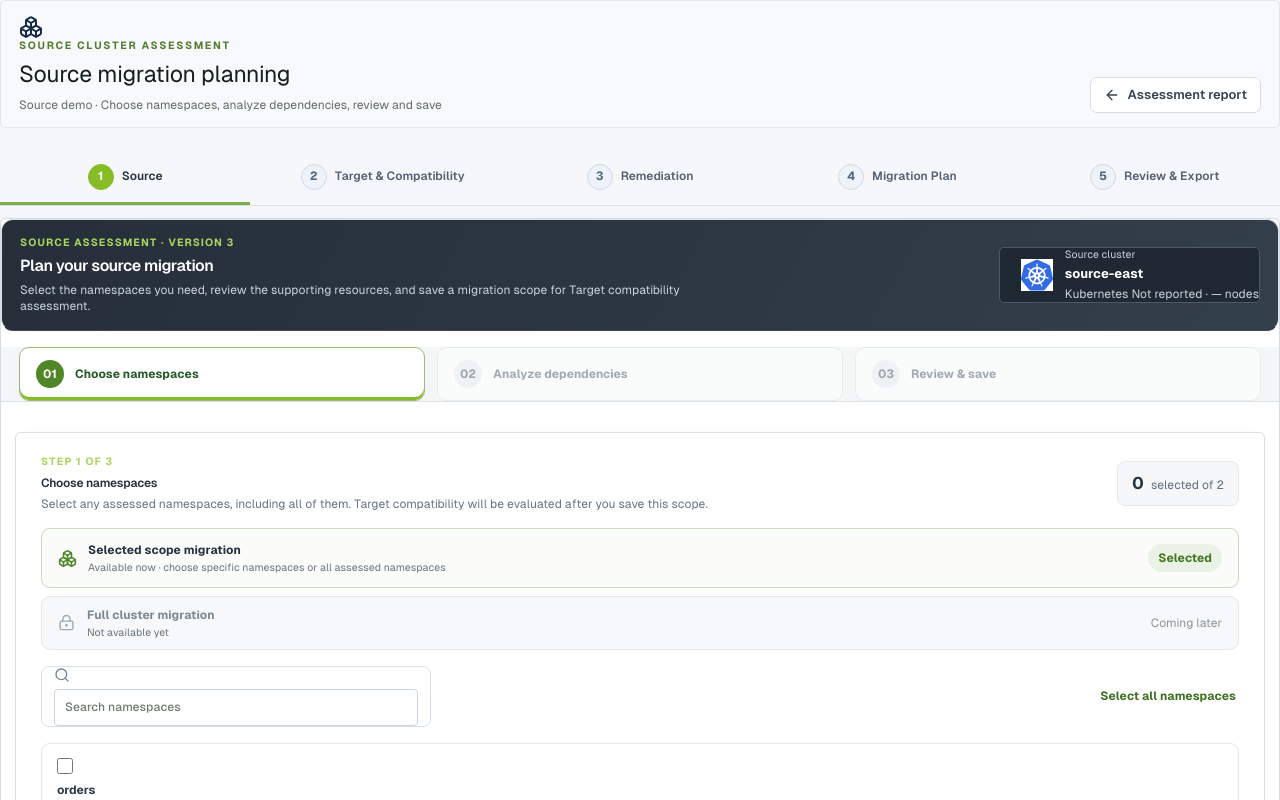
Test case: guided Source planning › starts at Choose namespaces with selected-scope only
expect the heading "Choose namespaces" is shown: met, box left=41, top=476, right=157, bottom=490
expect the text "Full cluster migration" is shown: met, box left=87, top=607, right=214, bottom=623
Click the button "Select all namespaces" at (1168, 696), box left=1097, top=682, right=1239, bottom=711
(page scrolled)
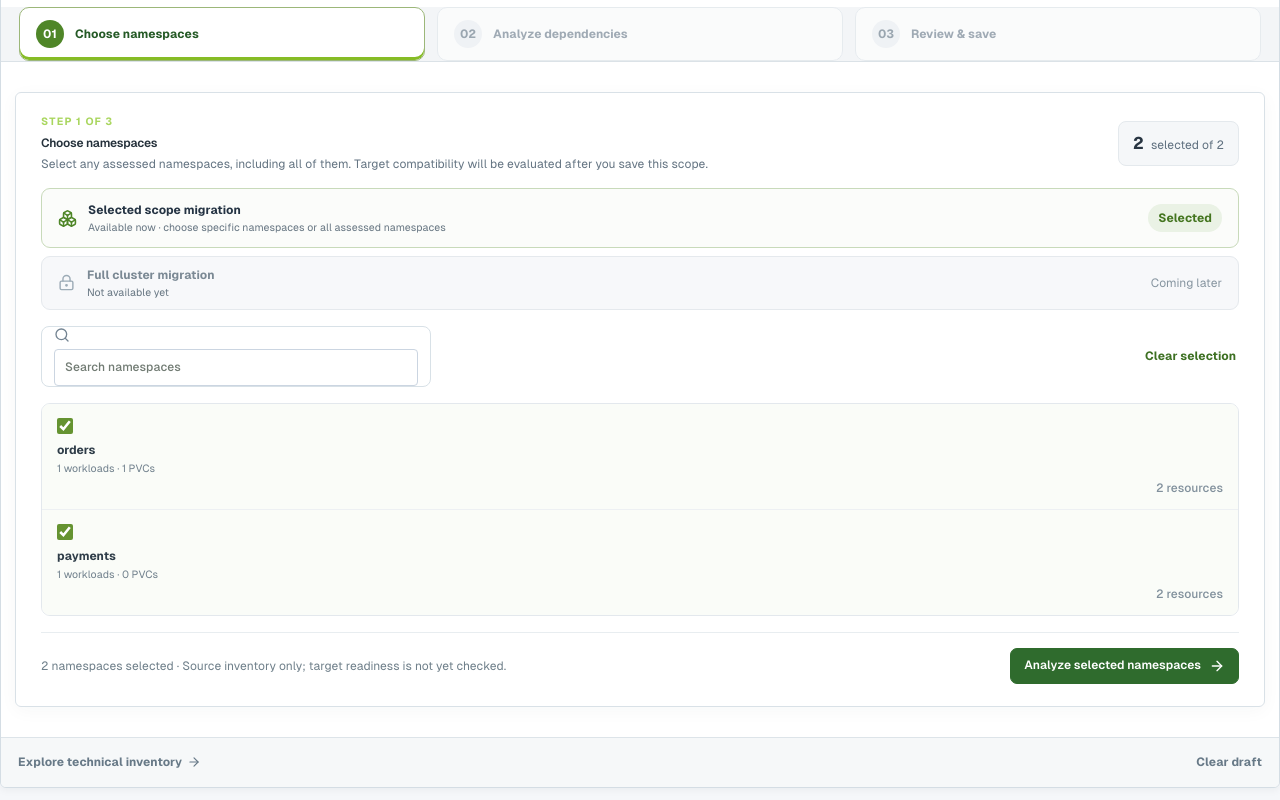
expect the button "Analyze selected namespaces" is enabled: met, box left=1010, top=648, right=1239, bottom=684
